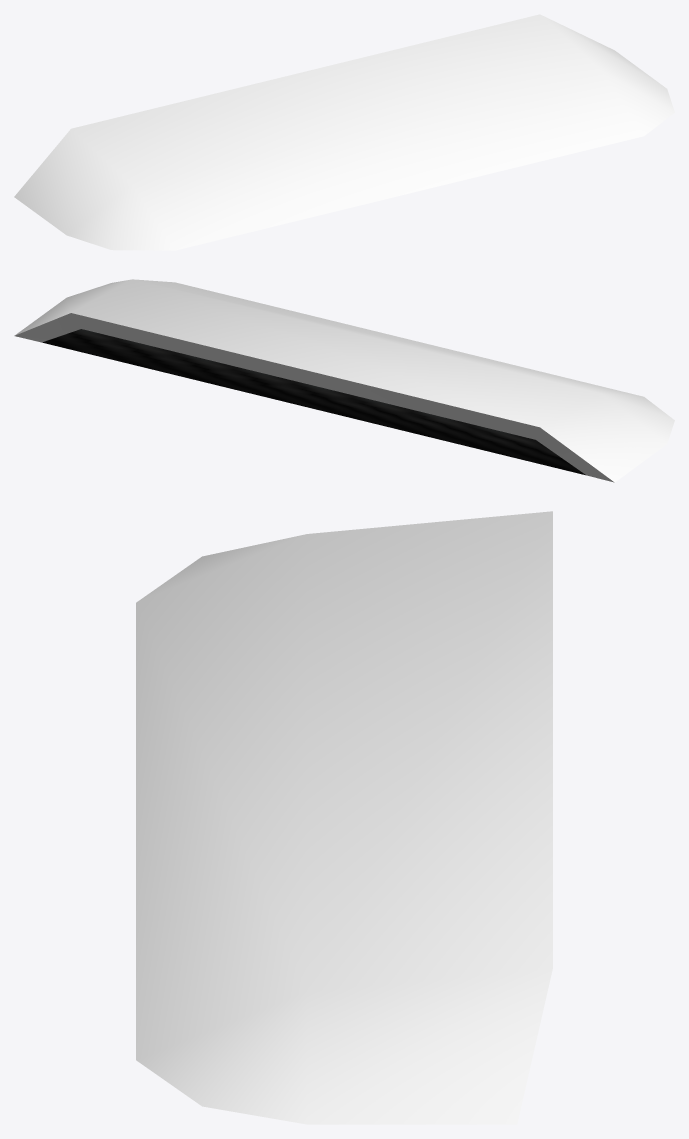
The model's file is bnt_b_sc_m.glb.
3 views of the same model, one above another, from view 1: azimuth 30°, elevation 25°; view 2: azimuth 150°, elevation 25°; view 3: azimuth 270°, elevation 25° (orthographic). The views are drawn at different scales.
Parts seen in each view (by area): view 1: bnt_b_sc_m; view 2: bnt_b_sc_m; view 3: bnt_b_sc_m.
Boxes of the visible parts, x1=… form: bnt_b_sc_m: x1=14, y1=14, x2=674, y2=250; bnt_b_sc_m: x1=14, y1=279, x2=674, y2=482; bnt_b_sc_m: x1=136, y1=511, x2=552, y2=1124.
Bounding box in the file's own units: 0.9253 × 0.0672 × 0.2779.
Materials: 2 (2 with a texture image).
